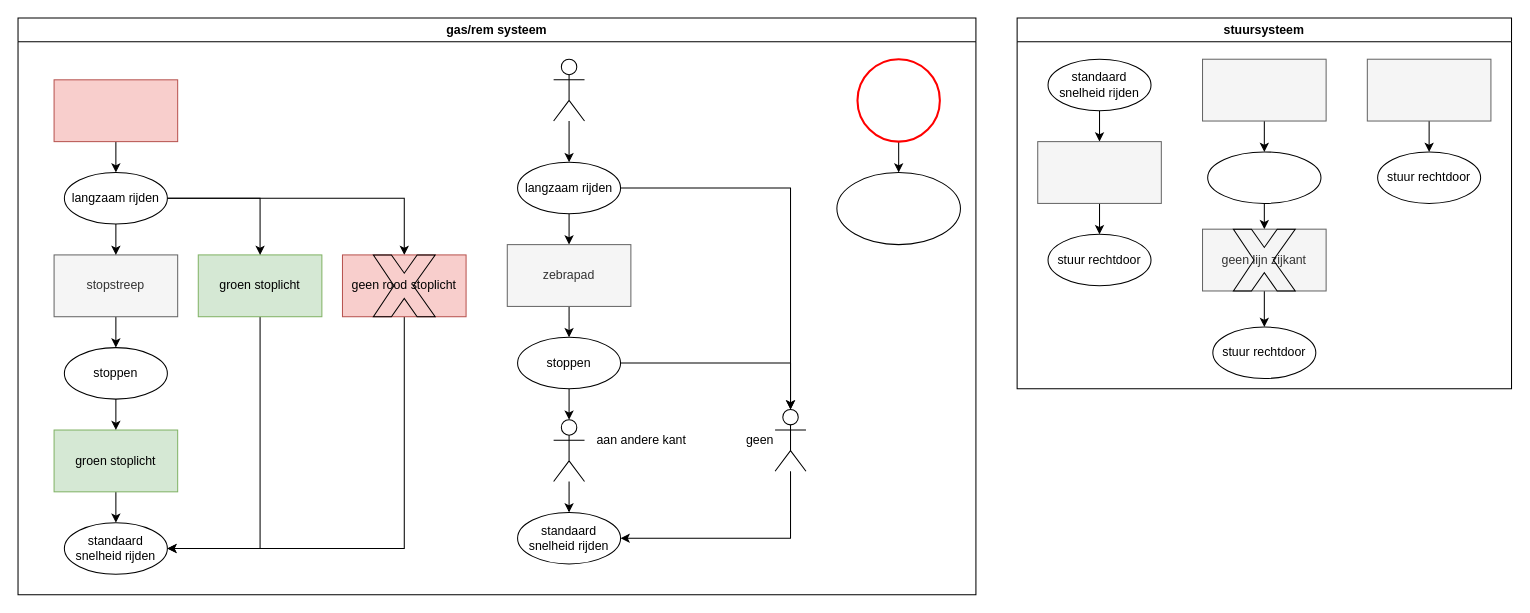
The diagram is 1530 pixels wide and 613 high, and some of its shapes have lost their labels. Here are the shapes that lost their labels. From the top down, the centre of each, then its label:
At point 898,100: "snelheidsbord".
At point 1263,89: "lijn zijkant".
At point 1428,89: "lijn beide zijkanten".
At point 115,110: "rood stoplicht".
At point 1099,172: "stopstreep / zebrapad".
At point 1264,177: "stuur richting andere kant".
At point 898,208: "snelheid op bord wordt nieuwe standaard snelheid".
